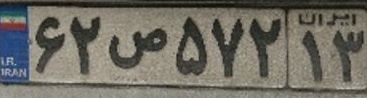character: (103, 11, 171, 78), (244, 8, 284, 86), (208, 7, 248, 84), (169, 9, 210, 82), (29, 9, 68, 78), (67, 8, 104, 78), (329, 25, 367, 87), (293, 25, 328, 87)
